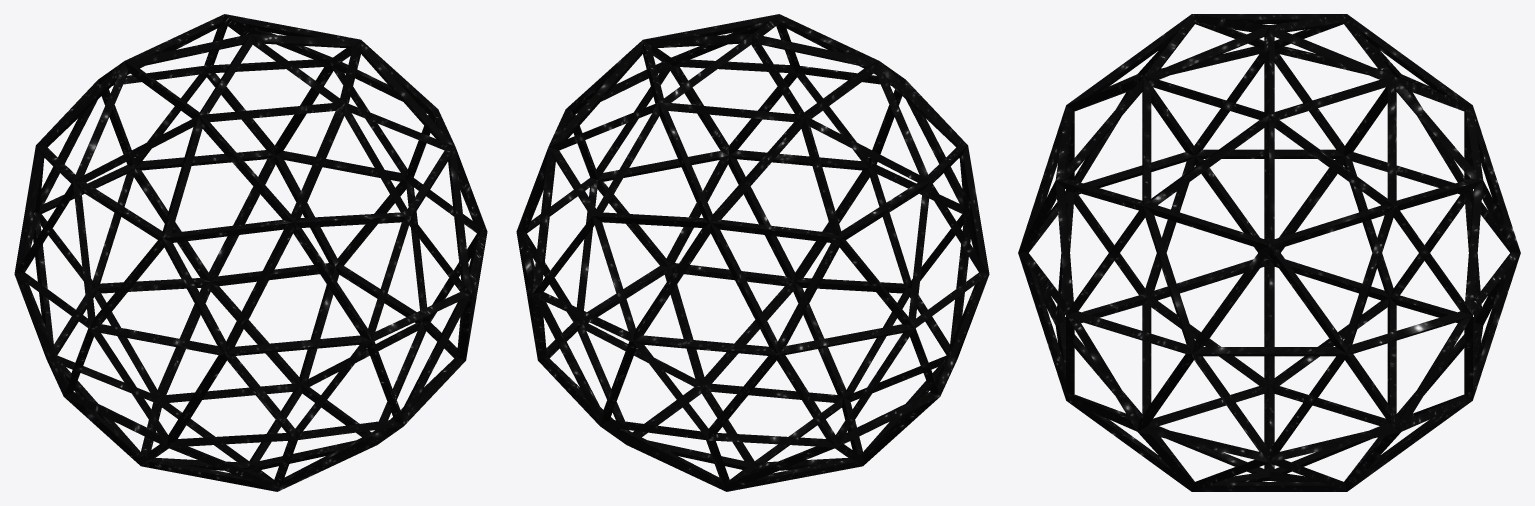
The model's file is sphere_wire.obj.
3 renders of one model, left to right at view 1: azimuth 30°, elevation 25°; view 2: azimuth 150°, elevation 25°; view 3: azimuth 270°, elevation 25°, orthographic. The views are drawn at different scales.
Visible parts, largest first — view 1: Icosphere_Icosphere.001; view 2: Icosphere_Icosphere.001; view 3: Icosphere_Icosphere.001.
Boxes of the visible parts, box(x1,y1,x2,y2) form: Icosphere_Icosphere.001: box(14, 14, 487, 491); Icosphere_Icosphere.001: box(516, 14, 989, 491); Icosphere_Icosphere.001: box(1018, 14, 1520, 491).
Size of the model in its own units: 1.94 by 2.04 by 2.04.
